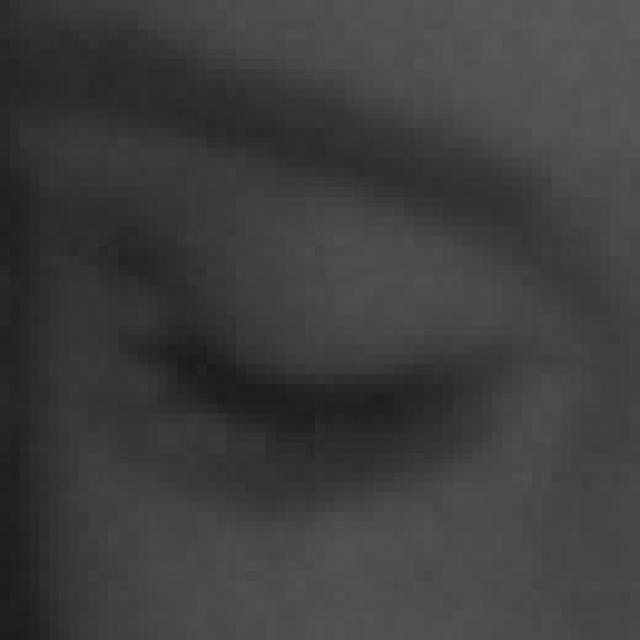Eyeclosed: (119, 196, 486, 574)
